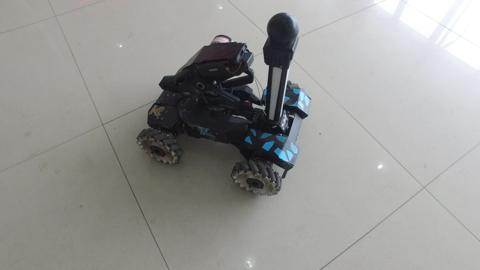chariot: (123, 38, 289, 192)
